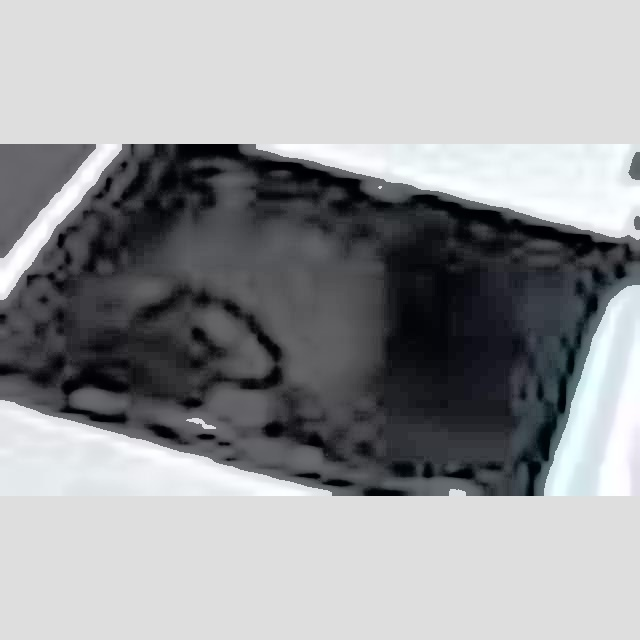tidak-pakai: (160, 184, 360, 400)
